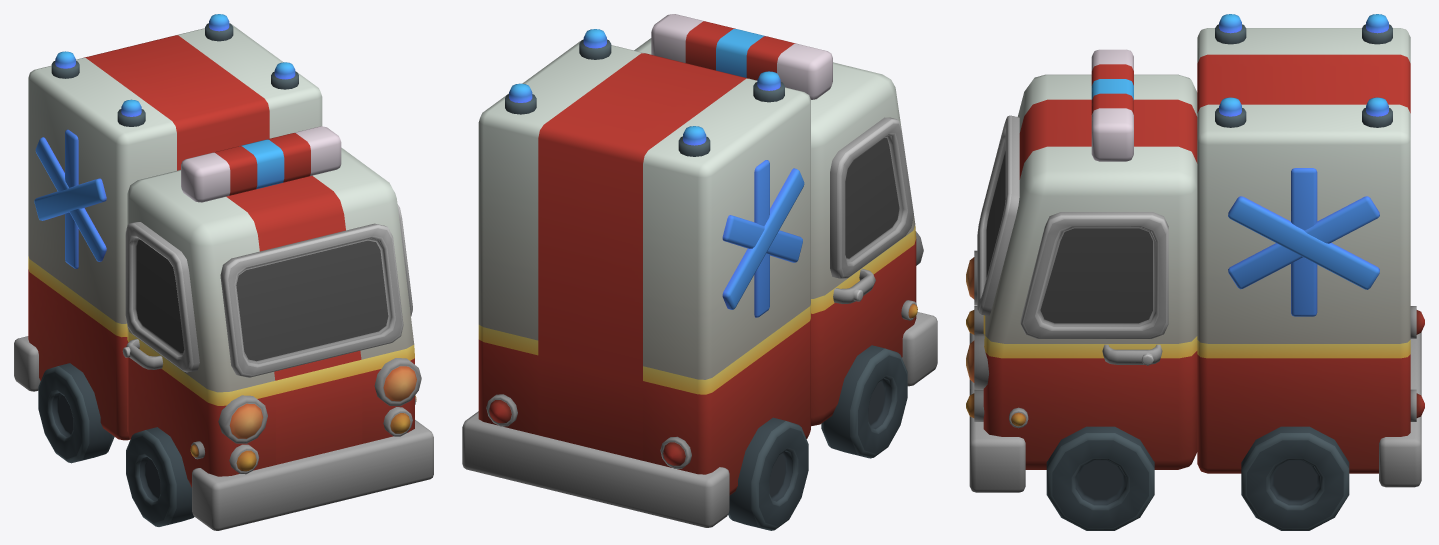
File: mct_car_09.fbx
3 renders of one model, left to right at view 1: azimuth 30°, elevation 25°; view 2: azimuth 150°, elevation 25°; view 3: azimuth 270°, elevation 25°, orthographic. The views are drawn at different scales.
Visible parts, largest first — view 1: mct_car_09, mct_car_09_w; view 2: mct_car_09, mct_car_09_w; view 3: mct_car_09, mct_car_09_w.
Boxes of the visible parts, x1,y1,x2,y2 form: mct_car_09: [14, 14, 433, 530]; mct_car_09_w: [38, 363, 194, 526]; mct_car_09: [462, 14, 937, 527]; mct_car_09_w: [728, 345, 907, 530]; mct_car_09: [966, 14, 1424, 492]; mct_car_09_w: [1046, 426, 1349, 530].
Bounding box in the file's own units: 130 × 189 × 192.
